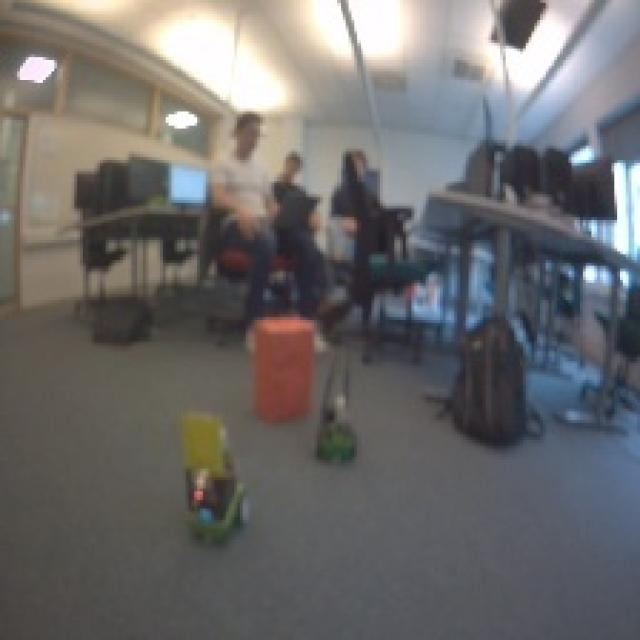robot: (172, 464, 255, 553), (312, 394, 363, 466)
target: (249, 311, 317, 423)
